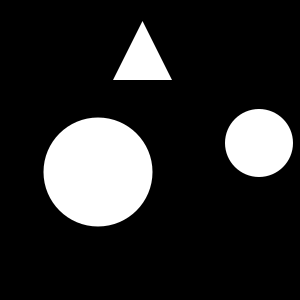circle: (46, 164, 57, 175)
rectangle: (44, 118, 152, 226), (225, 109, 293, 177)
triangle: (113, 21, 172, 80)
